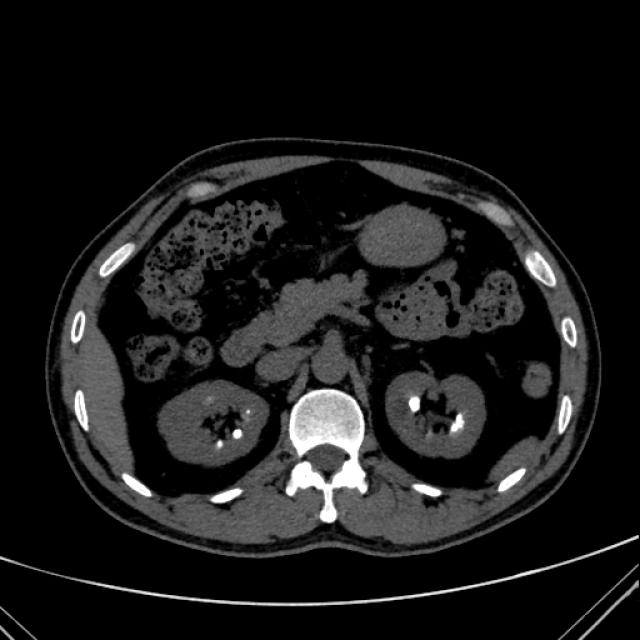kidneystone: (228, 402, 251, 422), (450, 412, 465, 432), (408, 395, 421, 413), (232, 429, 242, 439), (215, 439, 224, 449)
